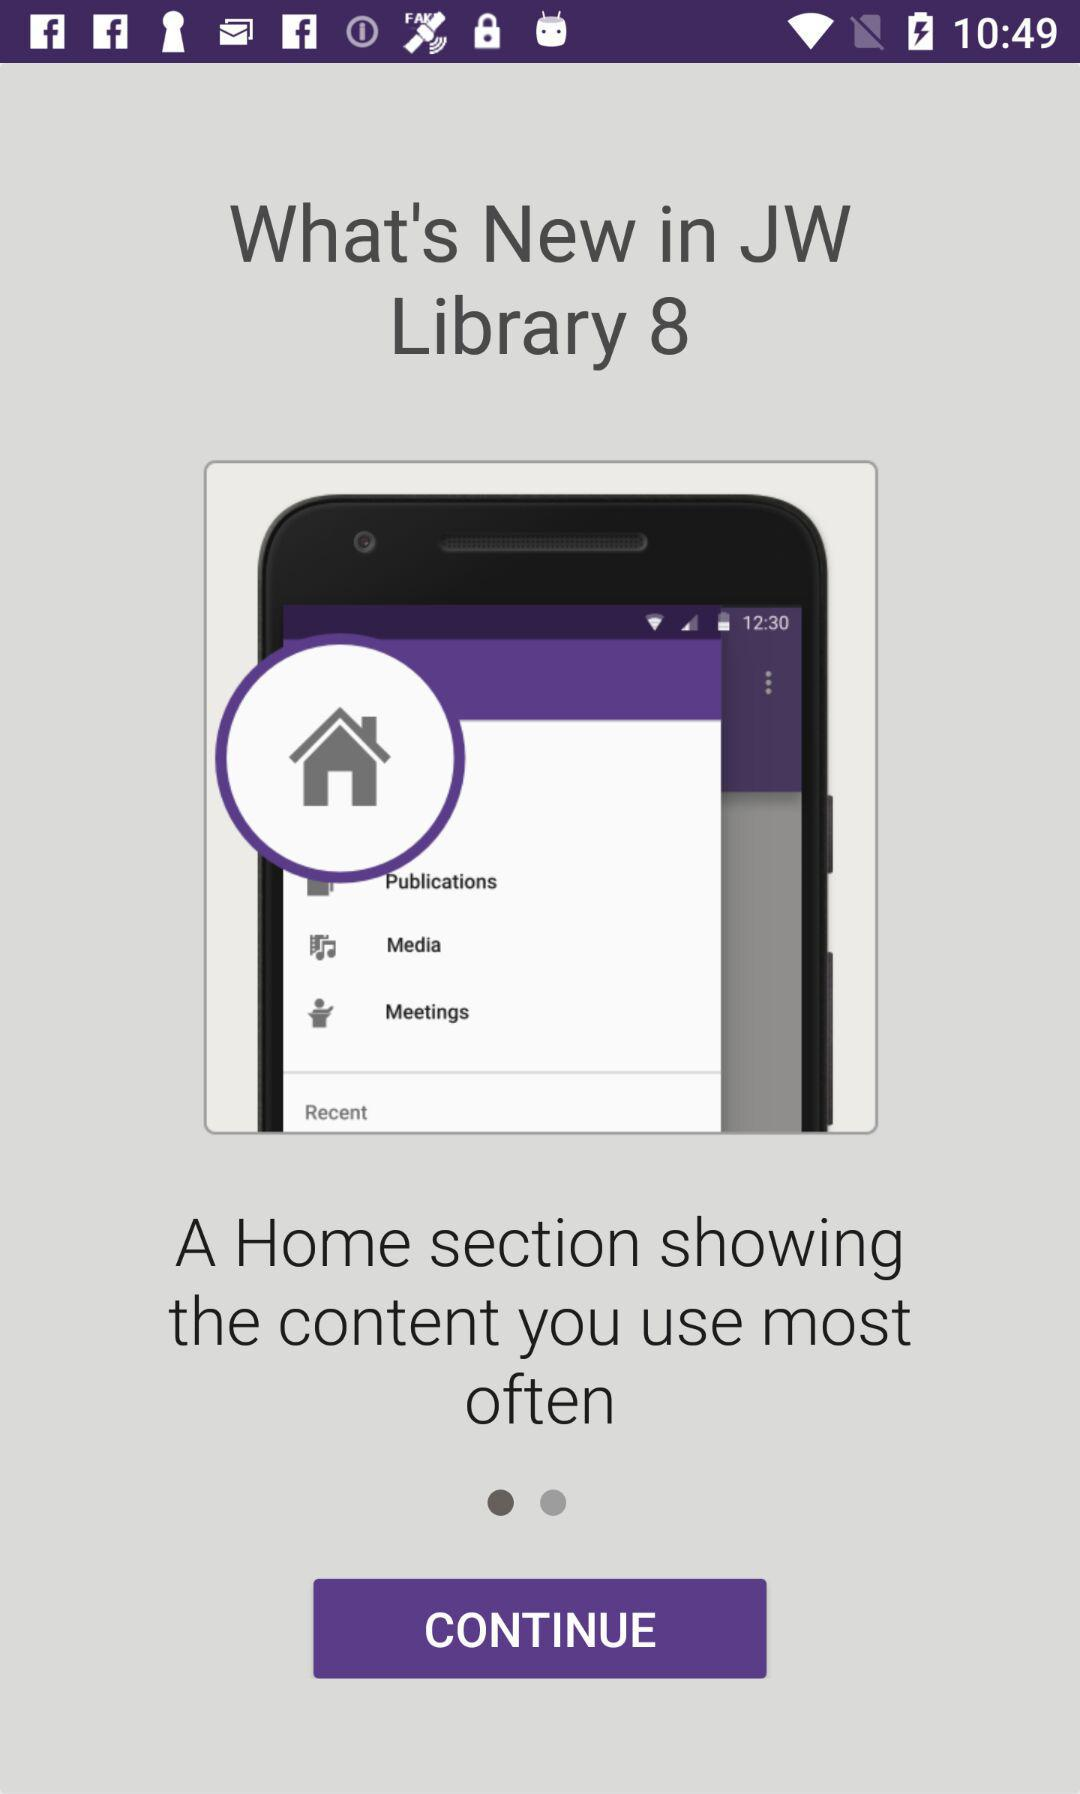Image: (202, 460, 879, 1137)
PageIndicator: (486, 1488, 568, 1518)
Text: (168, 1215, 912, 1425), (231, 202, 852, 373)
TextButton: (313, 1577, 767, 1679)
UpperTaskBar: (1, 1, 1080, 64)
